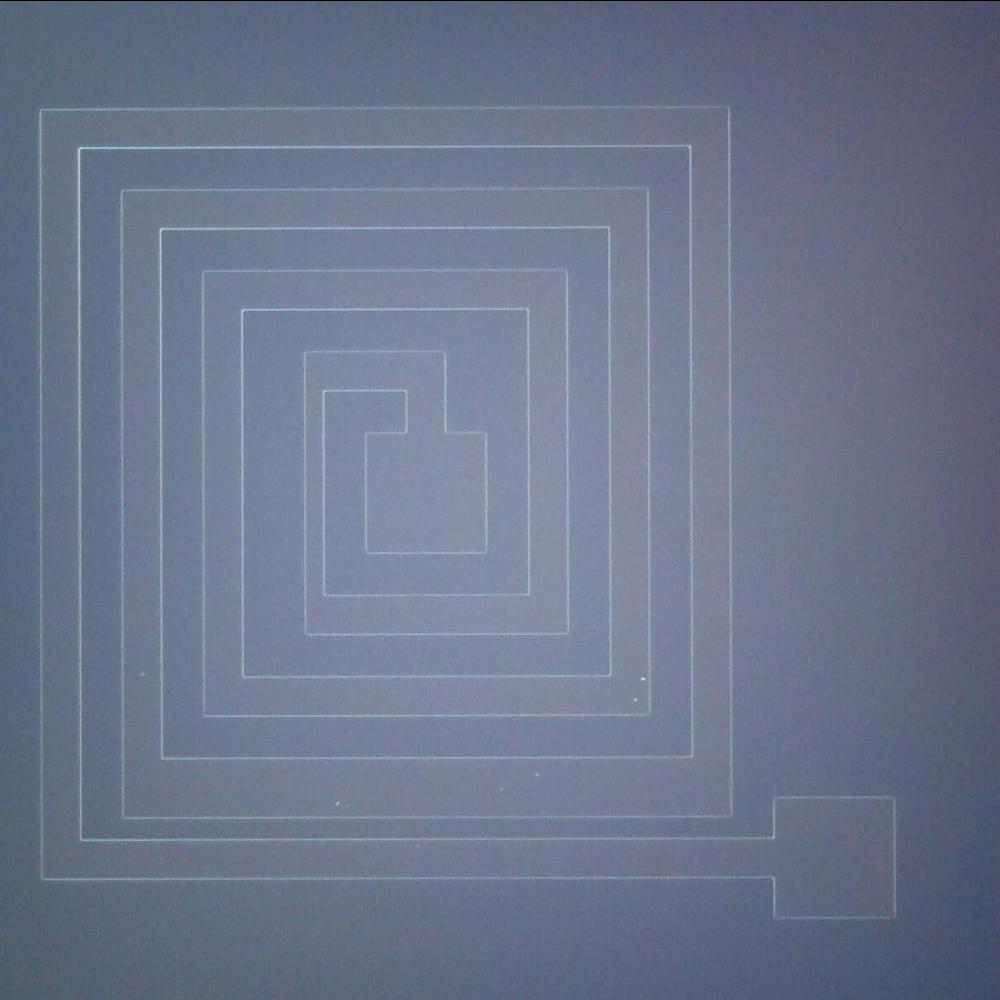dot: (636, 666, 657, 690)
fat circuit: (113, 748, 746, 821)
thin circuit: (287, 337, 347, 644)
